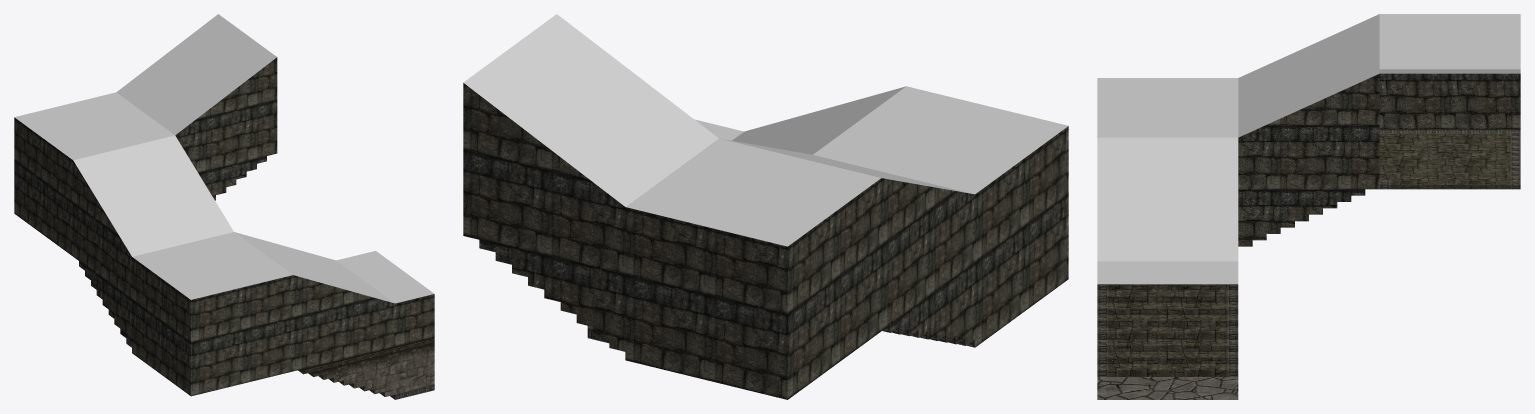
File: thm_yavn_temple_exar_kun_r10_mesh_r10.fbx
3 renders of one model, left to right at view 1: azimuth 30°, elevation 25°; view 2: azimuth 150°, elevation 25°; view 3: azimuth 270°, elevation 25°, orthographic. The views are drawn at different scales.
Visible parts, largest first — view 1: mesh_node; view 2: mesh_node; view 3: mesh_node.
Boxes of the visible parts, left/top/right/bottom form: mesh_node: left=14, top=14, right=434, bottom=399; mesh_node: left=463, top=14, right=1068, bottom=399; mesh_node: left=1097, top=14, right=1520, bottom=399.
Size of the model in its own units: 9.55 by 9.61 by 12.
